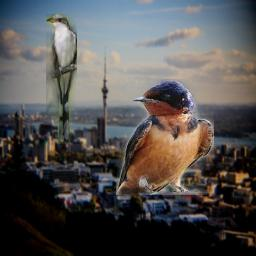Cuckoo: (46, 14, 77, 144)
Swallow: (116, 79, 214, 195)
